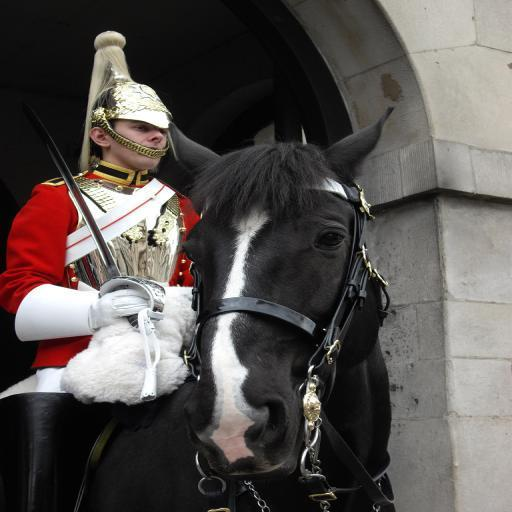horse: (0, 106, 396, 512)
